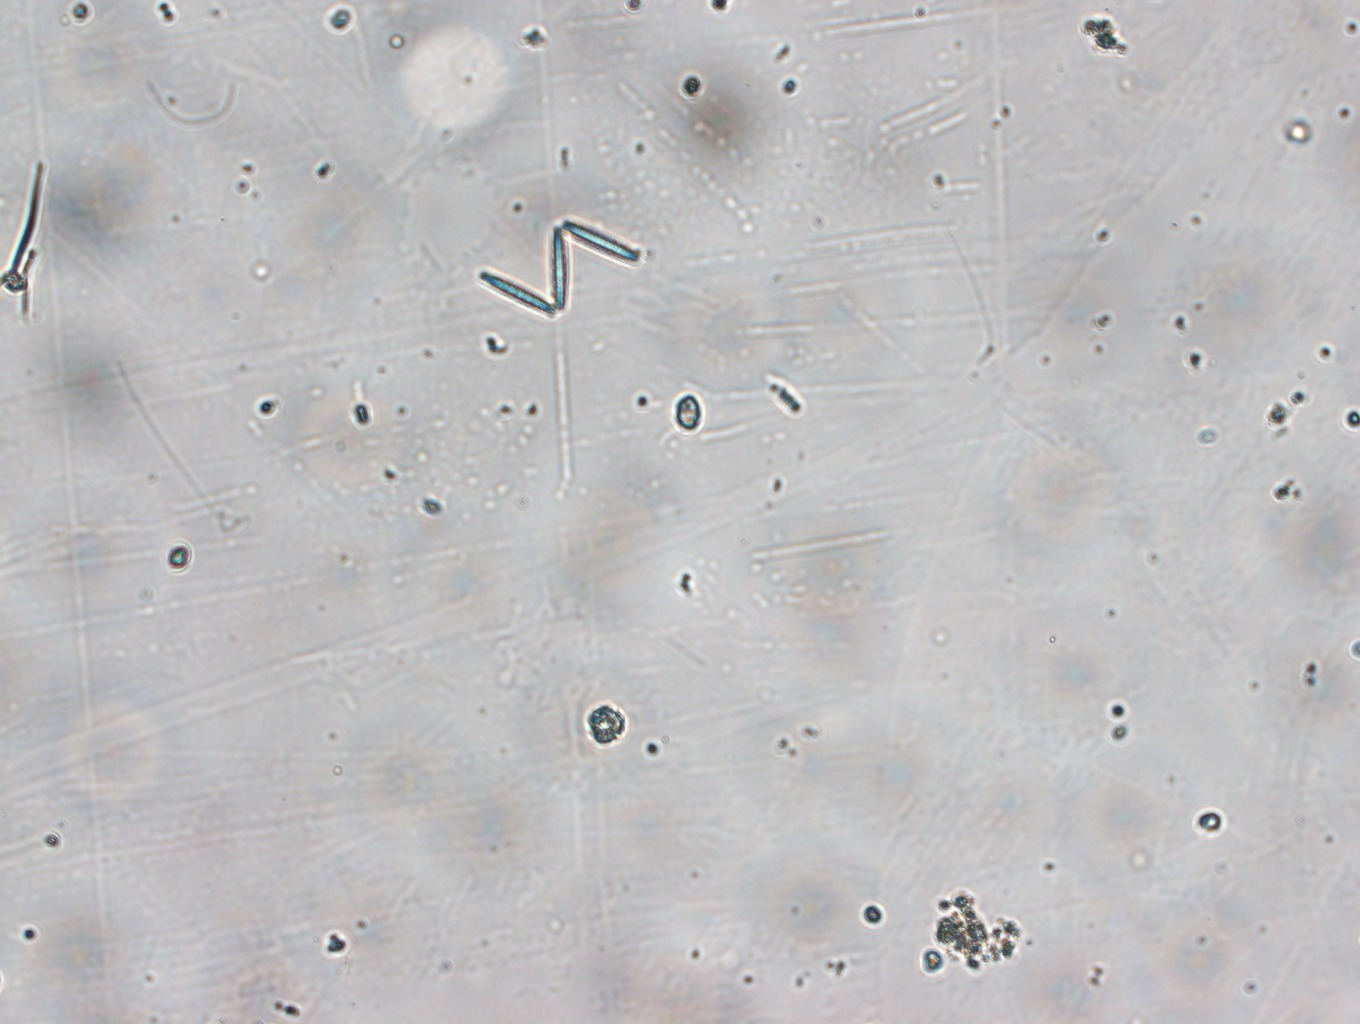thalassionema nitzschioides: (475, 217, 652, 319)
